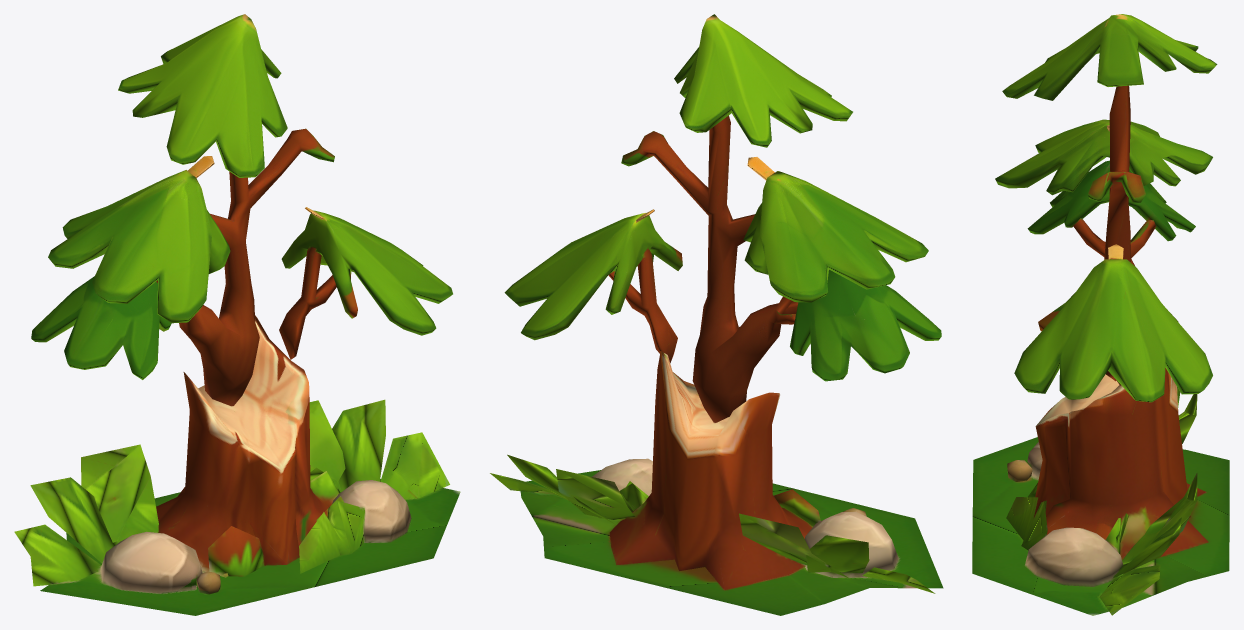
The model's file is etapa25.glb.
The picture shows the model from 3 angles, left to right: view 1: azimuth 30°, elevation 25°; view 2: azimuth 150°, elevation 25°; view 3: azimuth 270°, elevation 25°; orthographic projection. The views are drawn at different scales.
Bounding box in the file's own units: 0.8503 × 1 × 0.4625.
1 material, 1 textured.
